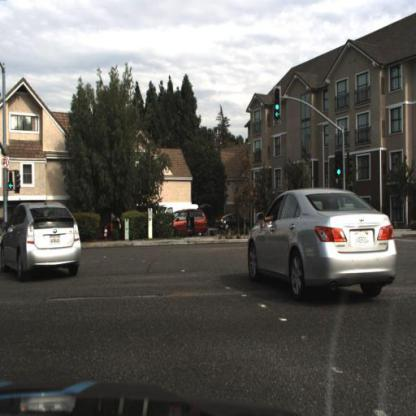car: (244, 191, 399, 299), (1, 196, 87, 300), (166, 206, 208, 241), (169, 207, 209, 236)
trafficLight: (274, 90, 284, 122), (336, 152, 346, 181), (5, 176, 16, 198)
